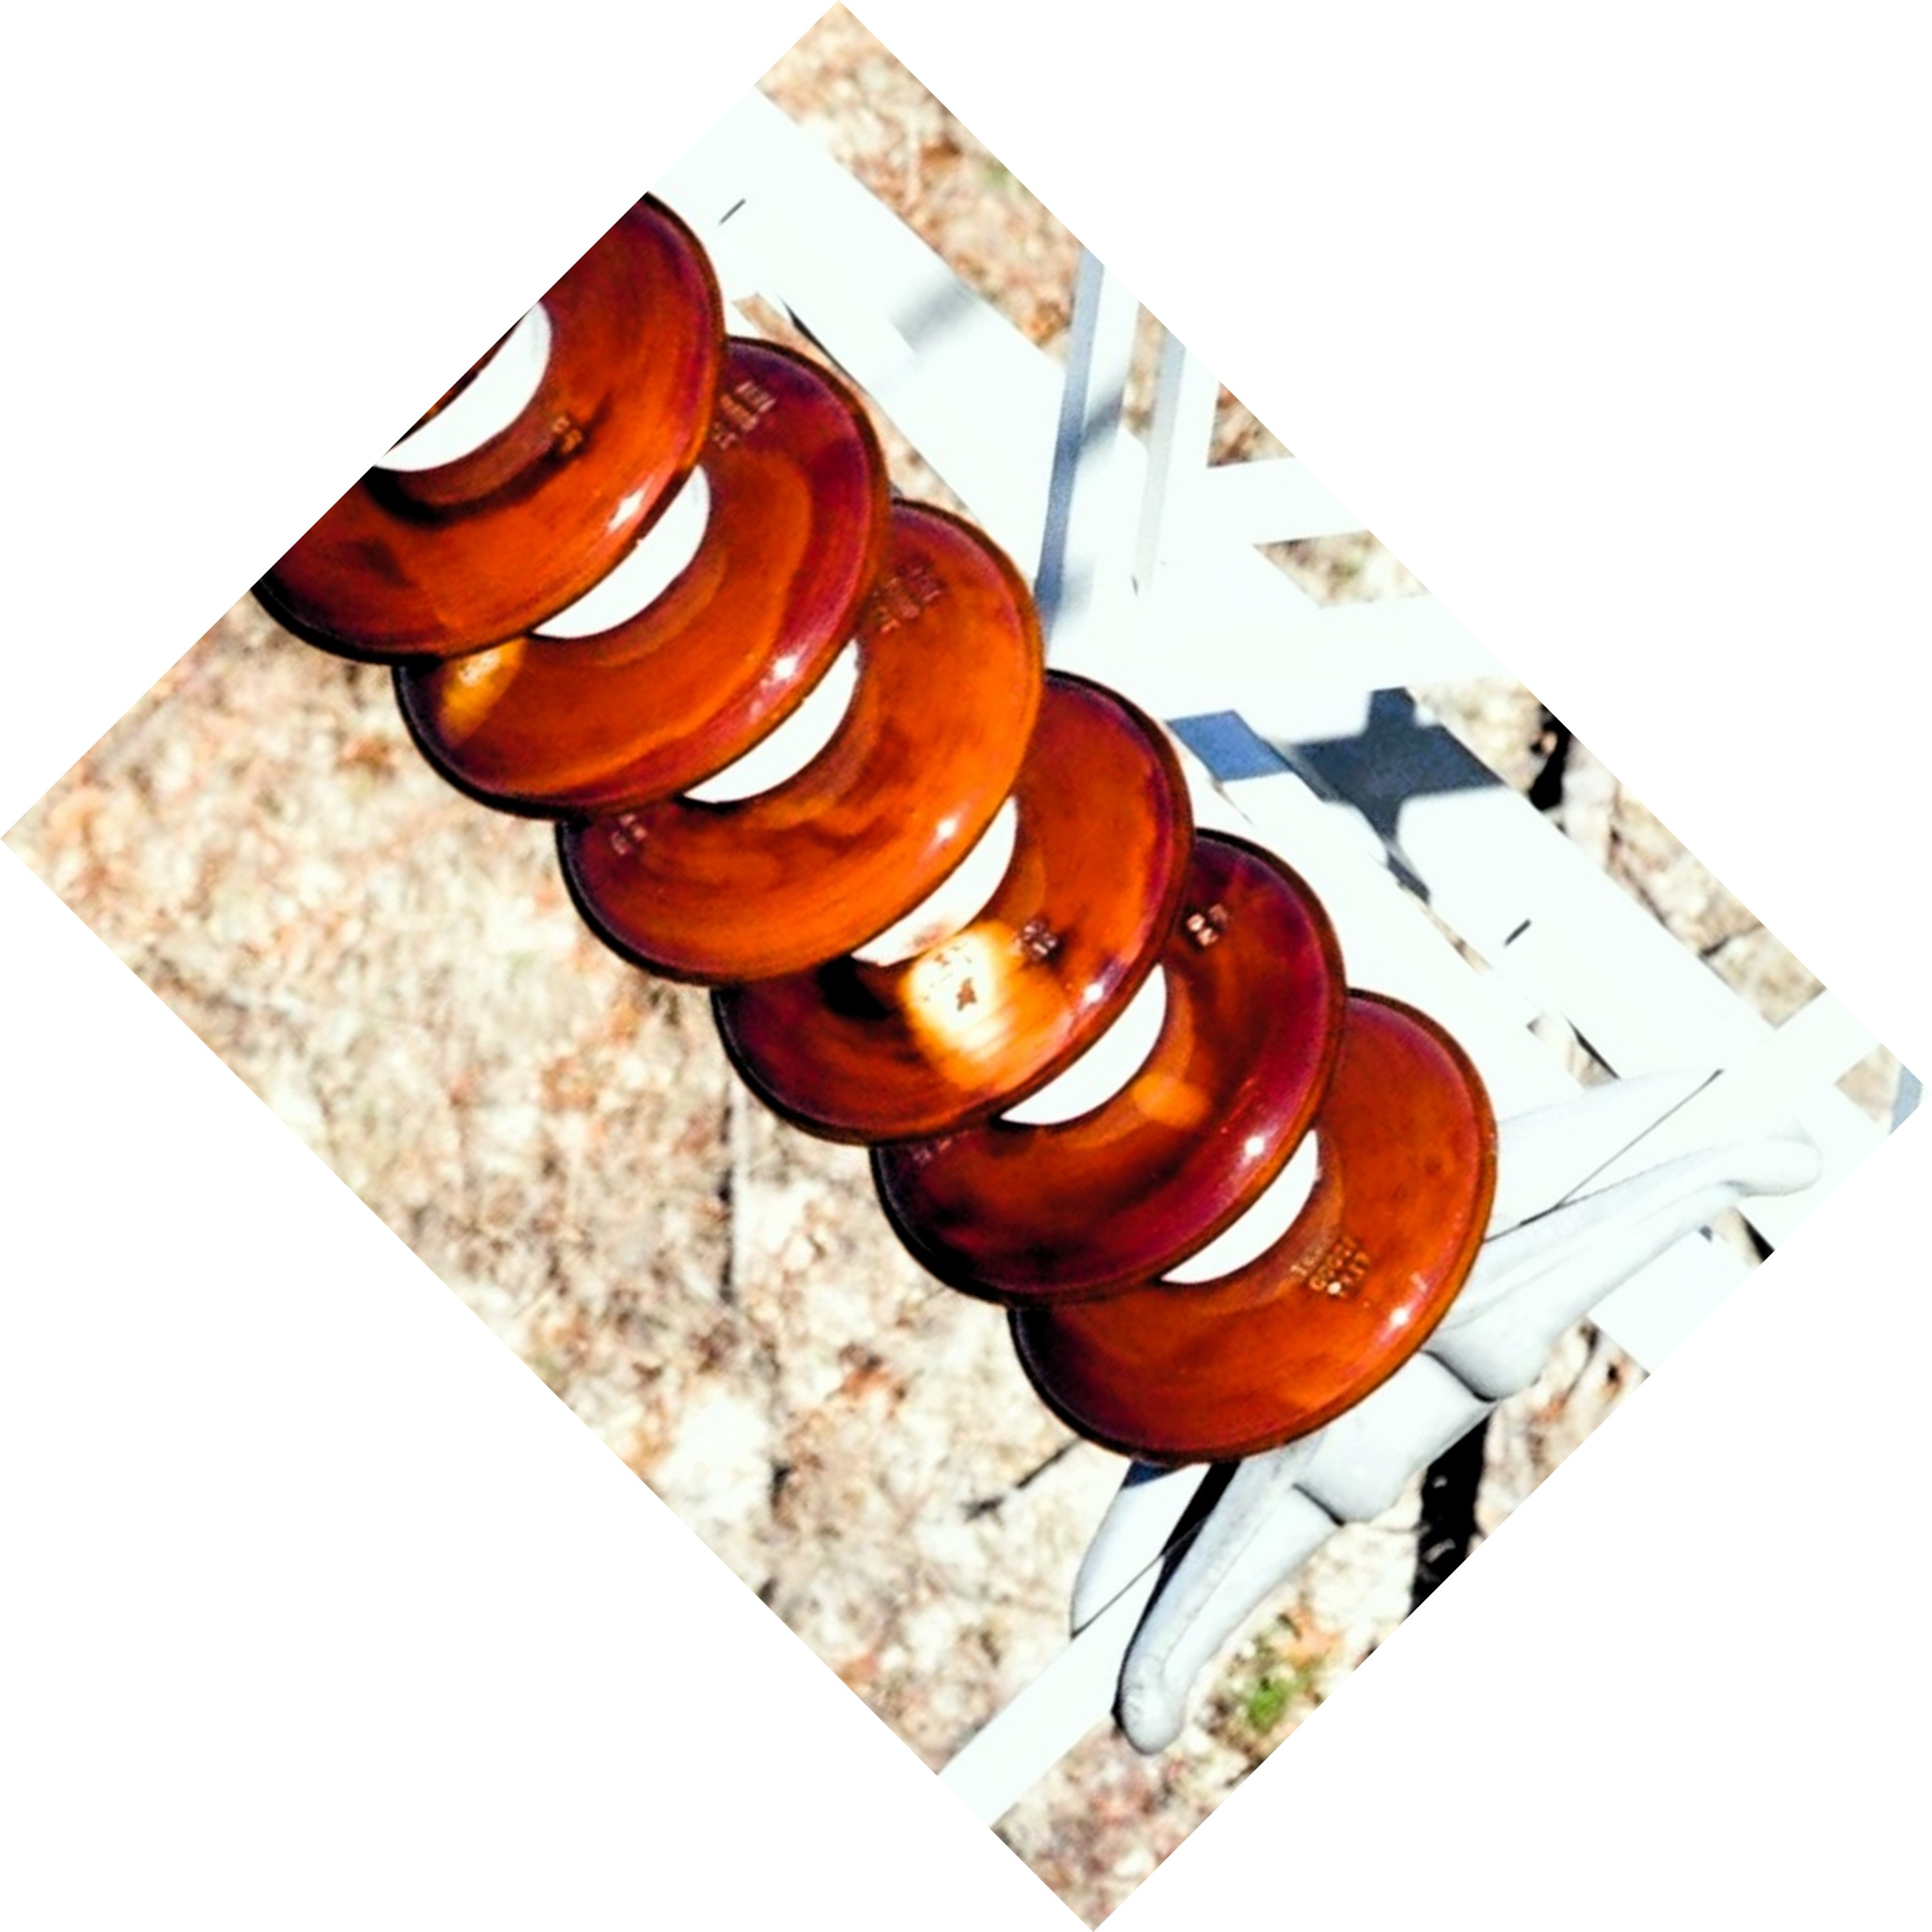Insulator flashover: (709, 667, 1203, 1161)
